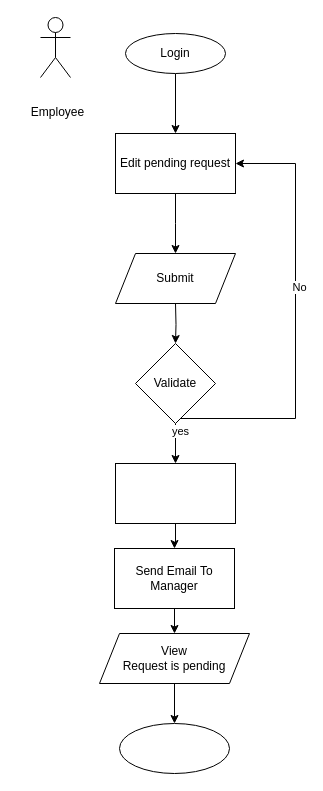
The diagram is 323 pixels wide and 791 high, and some of its shapes have lost their labels. The shapes that lost their labels are listed below. From the top down, each one's centre as x and y in pixels, then its label:
At point 55,47: "Actor".
At point 175,493: "Create Leave Request".
At point 174,748: "End".
